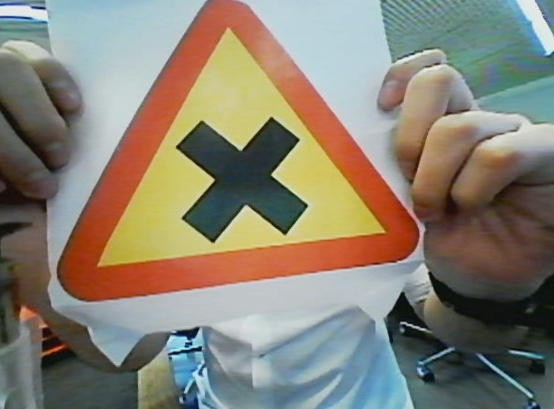junction: (50, 1, 435, 306)
